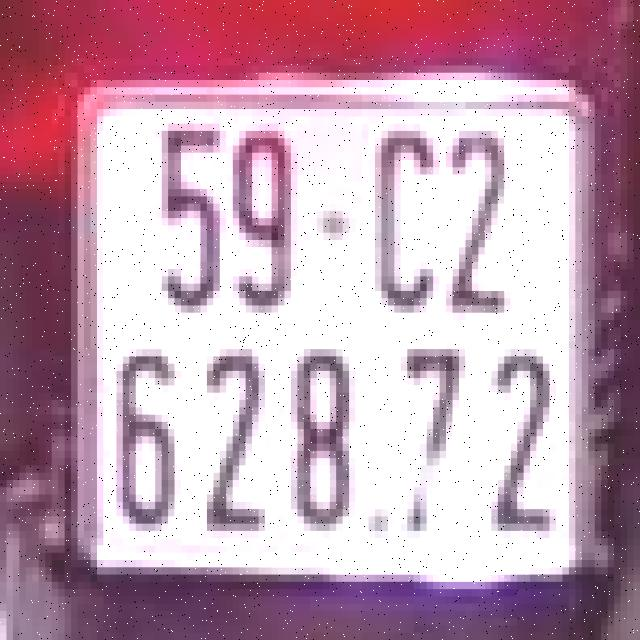2: (475, 331, 566, 549), (436, 98, 514, 331), (197, 324, 275, 527)
5: (149, 120, 226, 324)
6: (103, 327, 194, 538)
7: (378, 331, 469, 556)
8: (281, 302, 359, 534)
9: (226, 98, 304, 331)
C: (365, 113, 443, 316)
